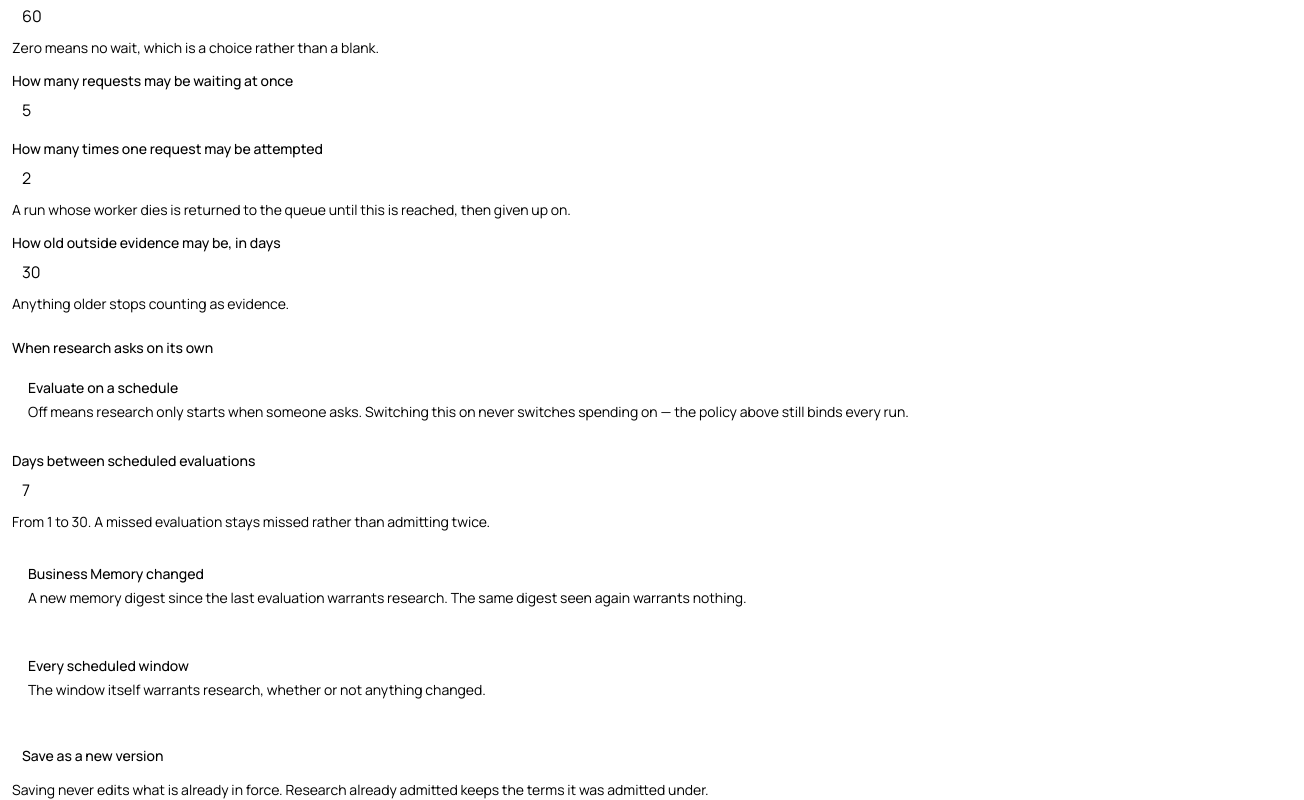
it: setting what research may spend › reports a refused save instead of claiming success
(page scrolled)
Click the button "Save as a new version". click: (93, 756)
box: [12, 740, 173, 772]
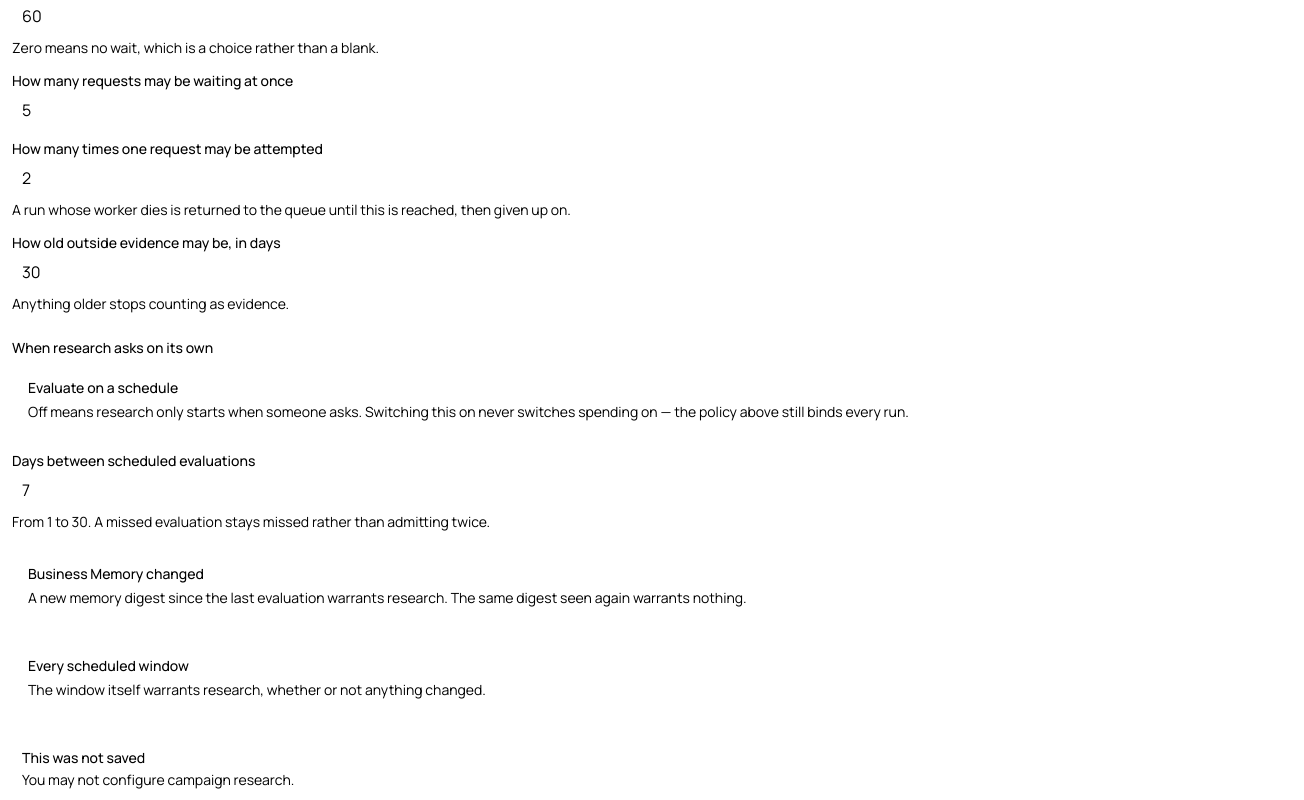
Check: the message shows "You may not configure campaign research", box [22, 770, 294, 789]
